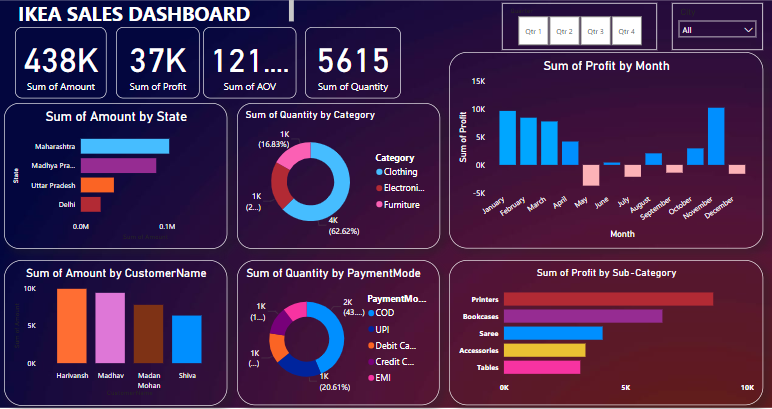

This screenshot's page, from the dashboard's own definition file:
{"tool":"powerbi","page":{"name":"Page 1","canvas":[1280,720],"ordinal":0},"visuals":[{"type":"columnChart","fields":{"Category":["in (2).Order Date.Variation.Date Hierarchy.Month"],"Y":["in.Profit"]},"box":[745.6,127,514.6,321.6],"z":0},{"type":"textbox","box":[34.6,18.1,461.9,49.5],"z":1000},{"type":"barChart","fields":{"Category":["in.Sub-Category"],"Y":["in.Profit"]},"box":[745.6,465.2,514.6,237.5],"z":2000},{"type":"donutChart","fields":{"Y":["in.Quantity"],"Category":["in.Category"]},"box":[397.5,209.5,333.2,239.2],"z":3000},{"type":"donutChart","fields":{"Category":["in.PaymentMode"],"Y":["in.Quantity"]},"box":[399.2,465.2,331.5,237.5],"z":4000},{"type":"clusteredBarChart","fields":{"Category":["in (2).State"],"Y":["in.Amount"]},"box":[16.5,209.5,366.2,239.2],"z":5000},{"type":"clusteredColumnChart","fields":{"Y":["in.Amount"],"Category":["in (2).CustomerName"]},"box":[16.5,465.2,366.2,239.2],"z":6000},{"type":"card","fields":{"Values":["in.Amount"]},"box":[34.6,67.6,150.1,117.1],"z":7000},{"type":"card","fields":{"Values":["in.Profit"]},"box":[199.6,67.6,136.9,117.1],"z":8000},{"type":"card","fields":{"Values":["in.Quantity"]},"box":[509.7,67.6,156.7,117.1],"z":9000},{"type":"card","fields":{"Values":["in.AOV"]},"box":[343.1,67.6,153.4,117.1],"z":10000},{"type":"slicer","fields":{"Values":["in (2).Order Date.Variation.Date Hierarchy.Quarter"]},"box":[847.8,18.1,254,84.1],"z":11000},{"type":"slicer","fields":{"Values":["in (2).City"]},"box":[1131.5,24.7,148.5,84.1],"z":12000}]}

Visuals, with their boxes in screenshot pixels (x1, y1, x2, y2):
columnChart - in (2).Order Date.Variation.Date Hierarchy.Month x in.Profit: <bbox>448, 54, 757, 247</bbox>
textbox: <bbox>21, 0, 298, 19</bbox>
barChart - in.Sub-Category x in.Profit: <bbox>448, 257, 757, 400</bbox>
donutChart - in.Quantity x in.Category: <bbox>239, 104, 439, 247</bbox>
donutChart - in.PaymentMode x in.Quantity: <bbox>240, 257, 439, 400</bbox>
clusteredBarChart - in (2).State x in.Amount: <bbox>10, 104, 230, 247</bbox>
clusteredColumnChart - in.Amount x in (2).CustomerName: <bbox>10, 257, 230, 401</bbox>
card - in.Amount: <bbox>21, 19, 111, 89</bbox>
card - in.Profit: <bbox>120, 19, 202, 89</bbox>
card - in.Quantity: <bbox>306, 19, 400, 89</bbox>
card - in.AOV: <bbox>206, 19, 298, 89</bbox>
slicer - in (2).Order Date.Variation.Date Hierarchy.Quarter: <bbox>509, 0, 662, 39</bbox>
slicer - in (2).City: <bbox>680, 0, 769, 43</bbox>
